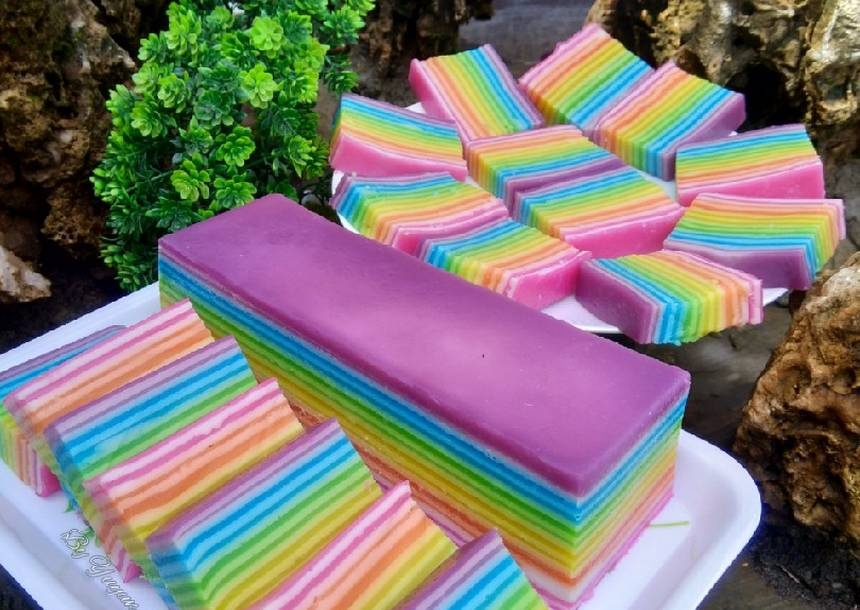kue_lapis_pelangi: (593, 61, 748, 176), (667, 198, 848, 285), (580, 254, 766, 336), (422, 217, 576, 313), (410, 33, 543, 142), (509, 167, 674, 246), (533, 22, 655, 127), (678, 121, 824, 204), (333, 175, 503, 246), (330, 90, 467, 173)
